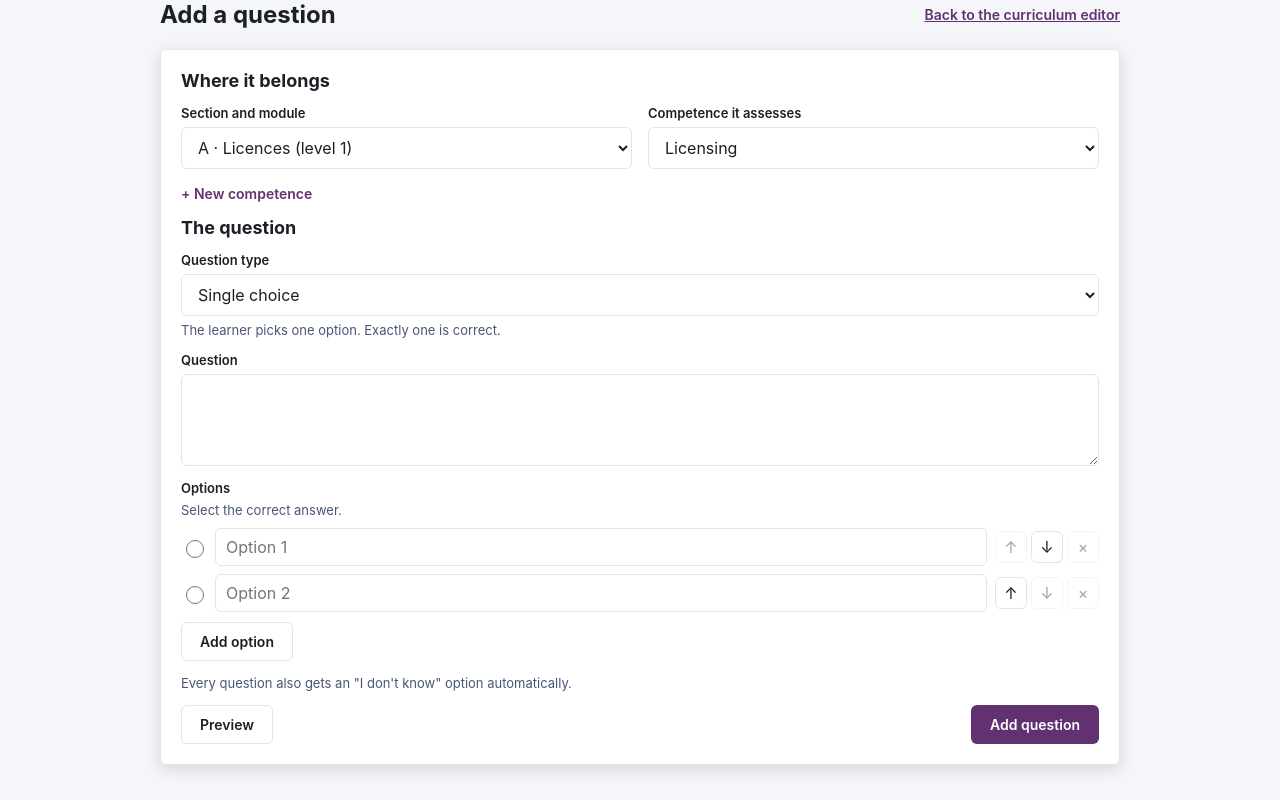
it: QuestionEditorPage: a new question › explains why a preview can't be built
This screenshot has width=1280, height=800.
Expected: the heading "Add a question" is shown, x1=160 y1=0 x2=336 y2=29
What coordinates should you click on to do the following:
click the button "Preview"
I would click on:
 (227, 724)
Its box is x1=181 y1=705 x2=273 y2=744.
(page scrolled)
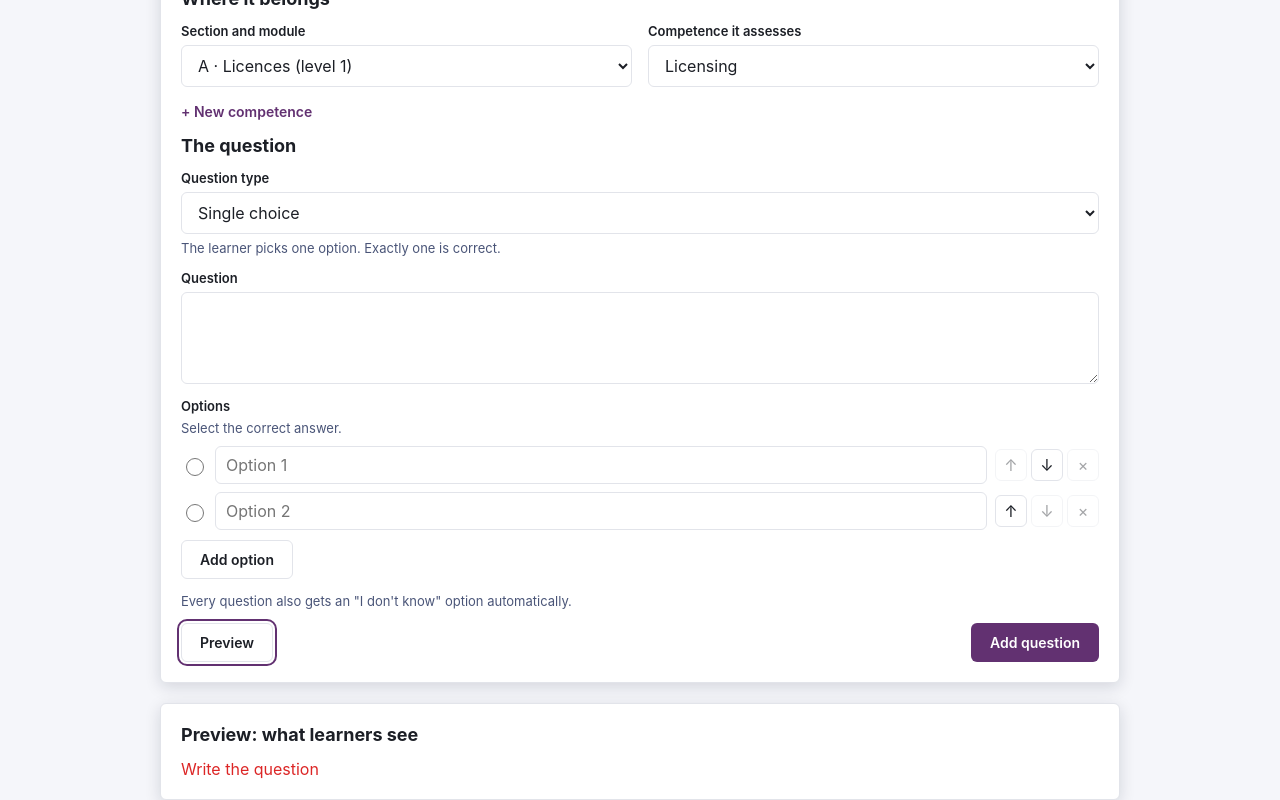
Expected: the message reads "Write the question", x1=181 y1=759 x2=319 y2=779
